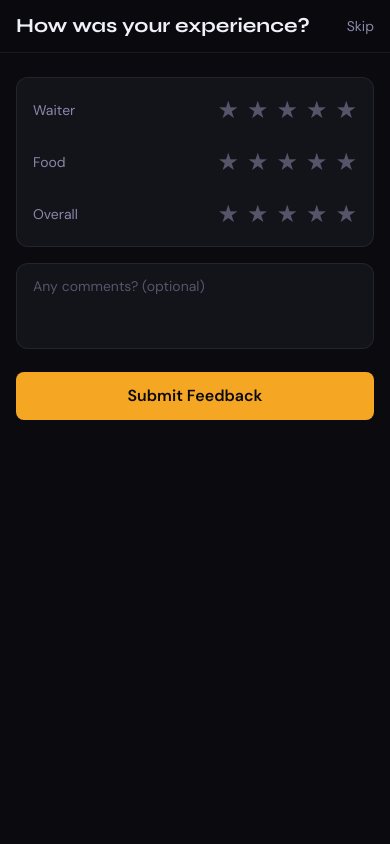
Test: PF05 - Feedback › Thank you screen shown after successful submission
This screenshot has width=390, height=844.
What coordinates should you click on to do the following:
click the button named "Overall 5 star"
I would click on:
 (346, 214)
Its box is [336,198,357,230].
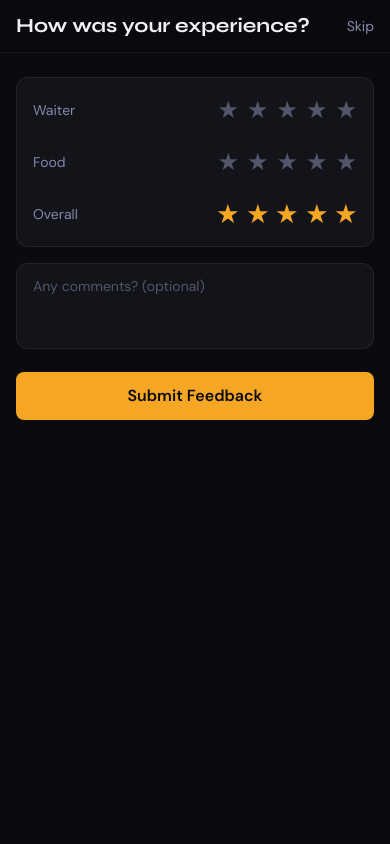
What coordinates should you click on to do the following:
click the button with test id "submit-btn"
I would click on:
 (195, 396)
Its box is [16,372,374,420].
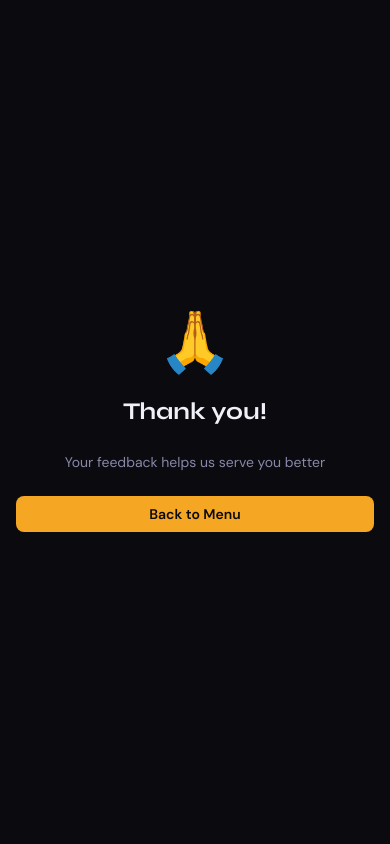
Now the element with test id "thank-you" is shown
